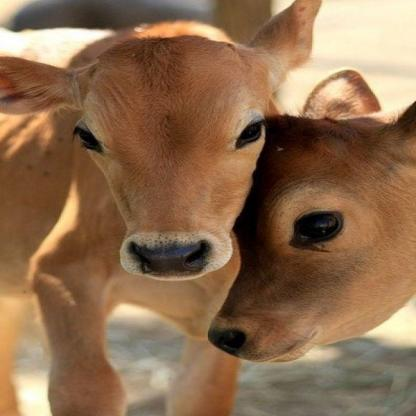cow: (0, 1, 321, 416), (207, 100, 413, 365)
